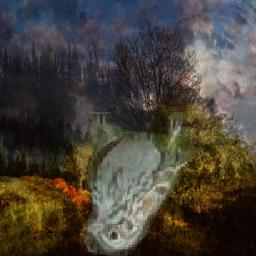Sparrow: (83, 112, 195, 256)
